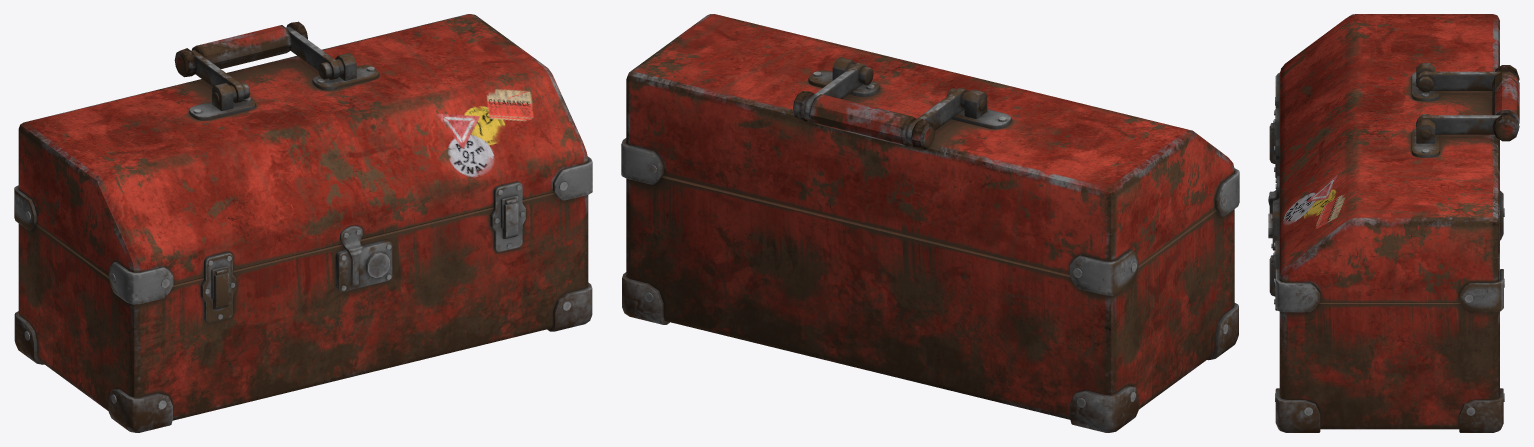
File: toolbox.fbx
The picture shows the model from 3 angles, left to right: view 1: azimuth 30°, elevation 25°; view 2: azimuth 150°, elevation 25°; view 3: azimuth 270°, elevation 25°; orthographic projection. The views are drawn at different scales.
Parts seen in each view (by area): view 1: Cube.026; view 2: Cube.026; view 3: Cube.026.
Boxes of the visible parts, x1,y1,x2,y2 form: Cube.026: (14,14,592,432); Cube.026: (621,14,1239,432); Cube.026: (1268,14,1519,432).
Bounding box in the file's own units: 539 × 283 × 268.
